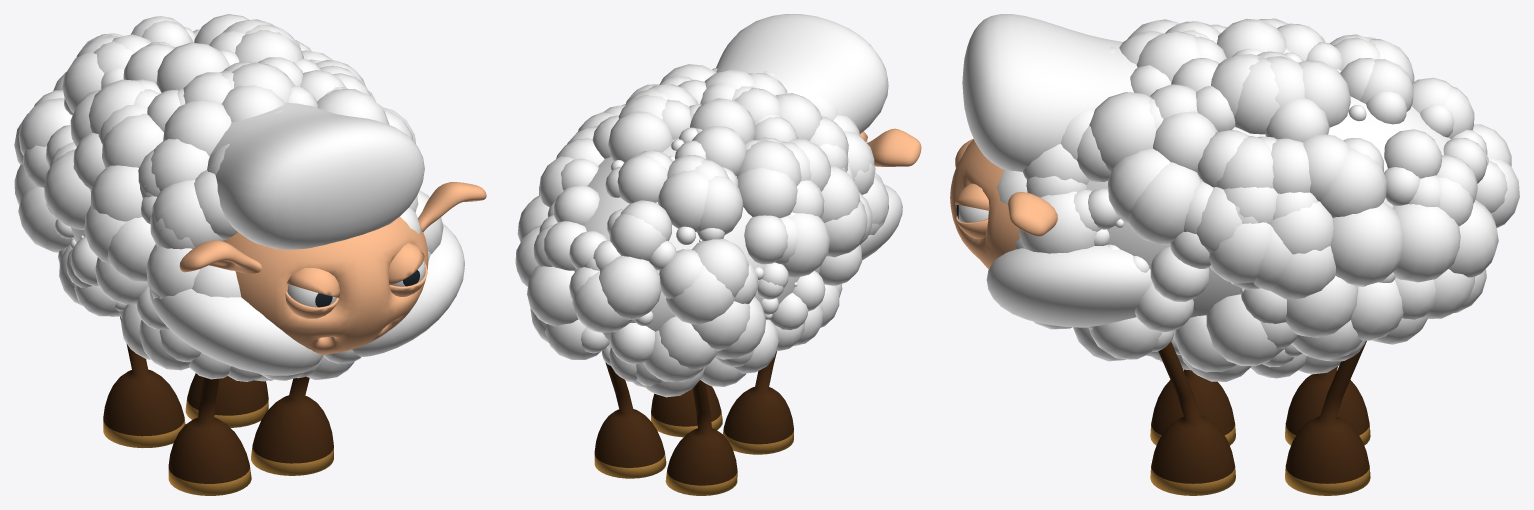
The model's file is SM_Schaf.fbx.
3 views of the same model, side by side, from view 1: azimuth 30°, elevation 25°; view 2: azimuth 150°, elevation 25°; view 3: azimuth 270°, elevation 25° (orthographic). The views are drawn at different scales.
Parts seen in each view (by area): view 1: Schaf.001; view 2: Schaf.001; view 3: Schaf.001.
Part boxes in pixels (x1,y1,x2,y2): Schaf.001: [14, 14, 486, 495]; Schaf.001: [515, 14, 921, 495]; Schaf.001: [950, 14, 1519, 495].
Bounding box in the file's own units: 156 × 187 × 229.
